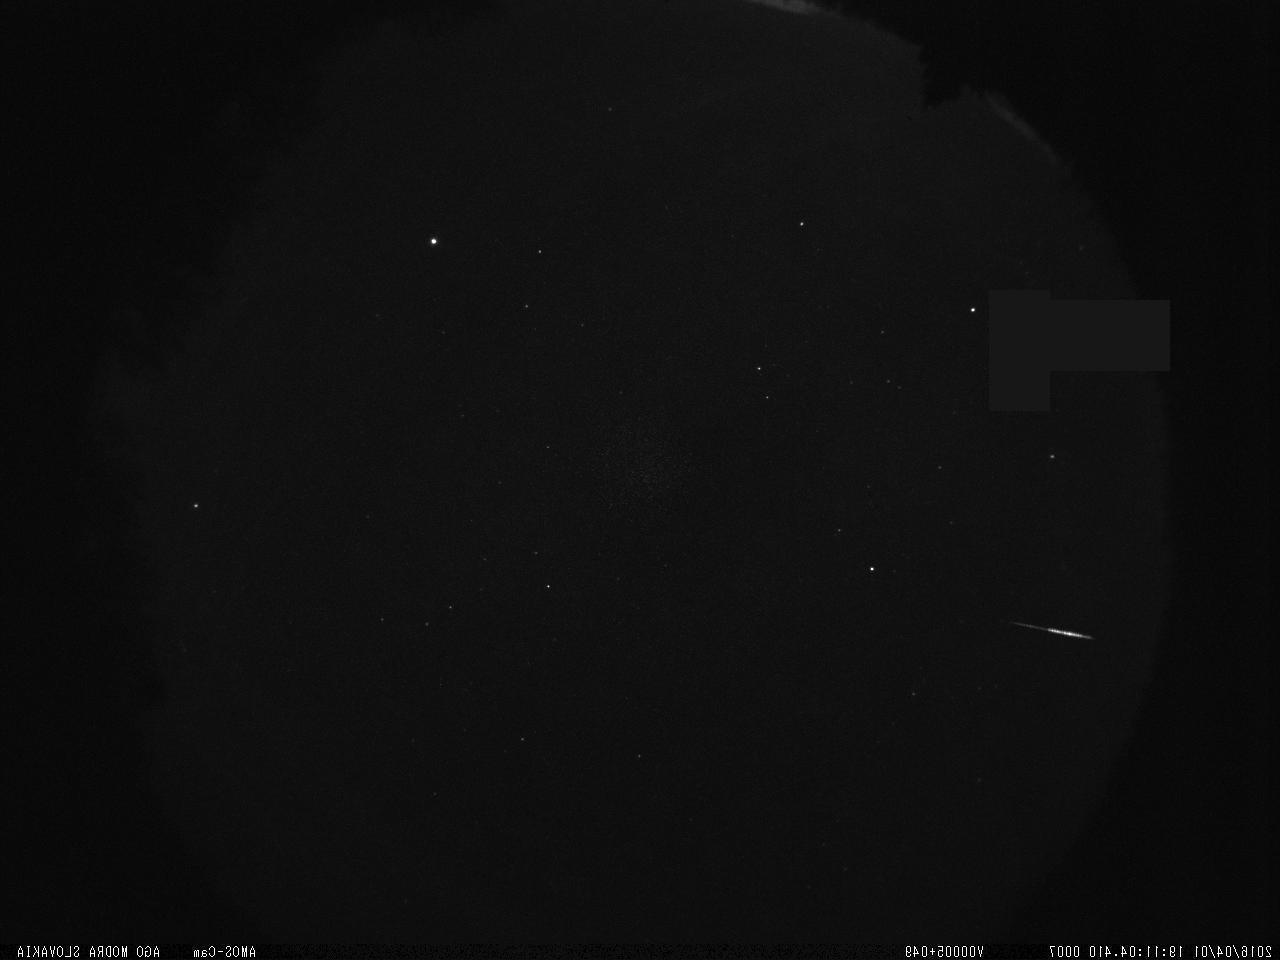meteor: (996, 613, 1100, 647)
